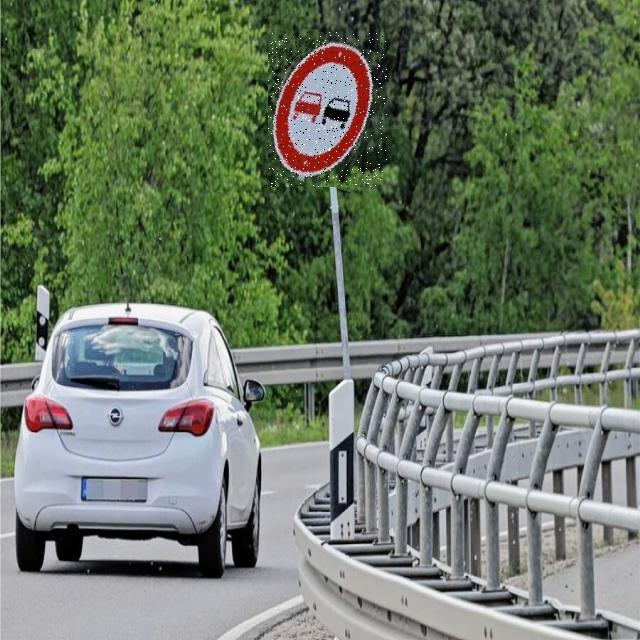no overtaking: (268, 32, 387, 187)
